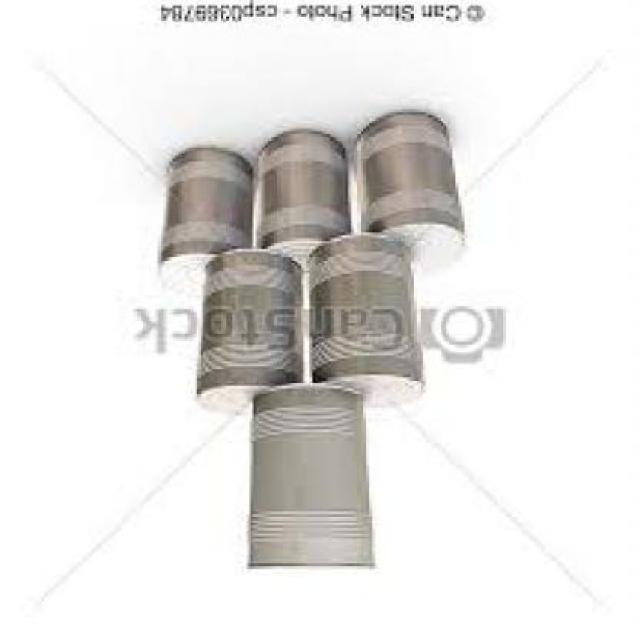METAL: (250, 388, 378, 572), (312, 238, 426, 404), (354, 118, 471, 268), (199, 252, 304, 416), (259, 132, 355, 273), (161, 150, 256, 279)
